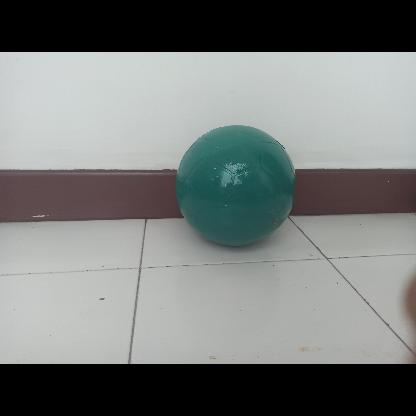green_ball: (177, 124, 299, 246)
